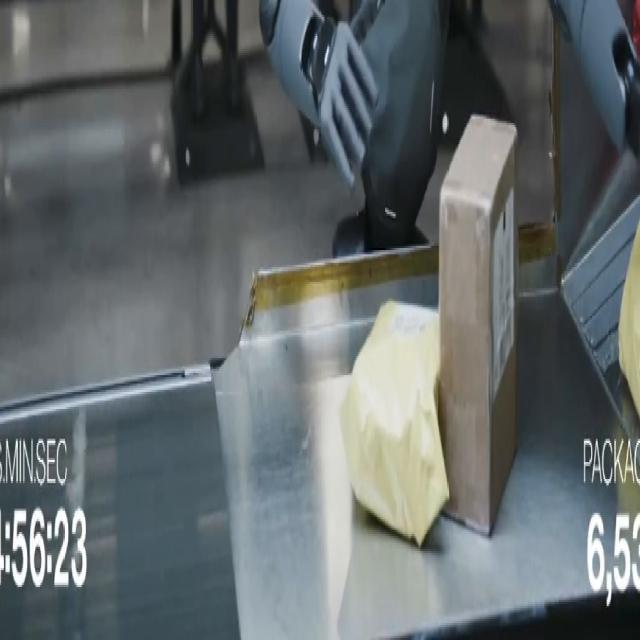package: (439, 117, 518, 534), (340, 304, 448, 546), (619, 227, 639, 413)
